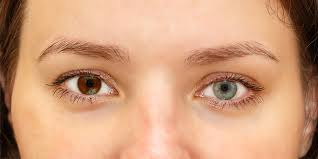pupil: (212, 80, 237, 100), (77, 75, 101, 95)
